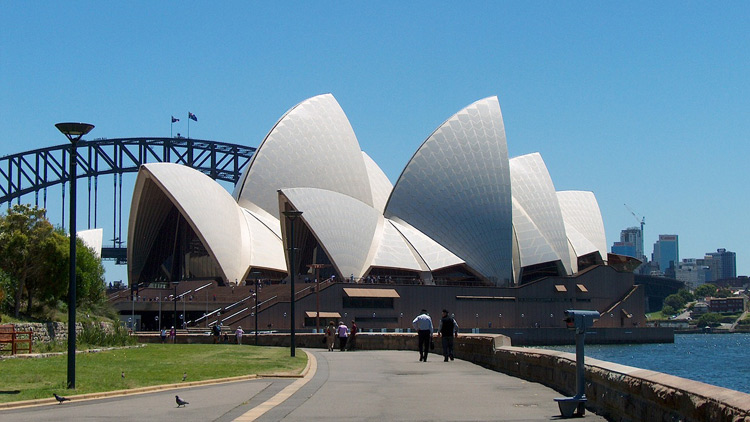opera house: (104, 88, 680, 336)
